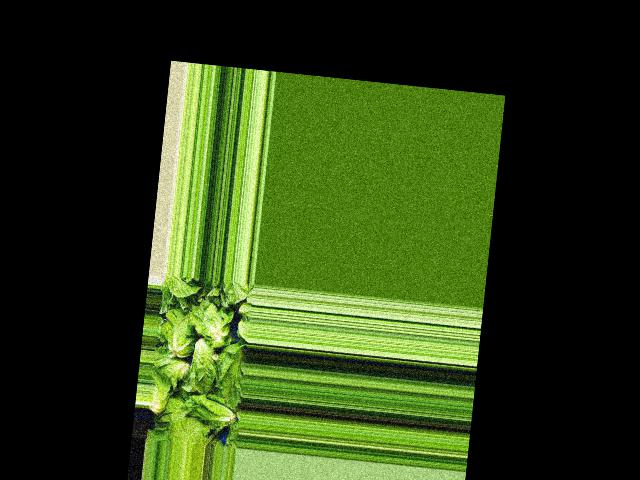lettuce: (160, 289, 285, 395)
